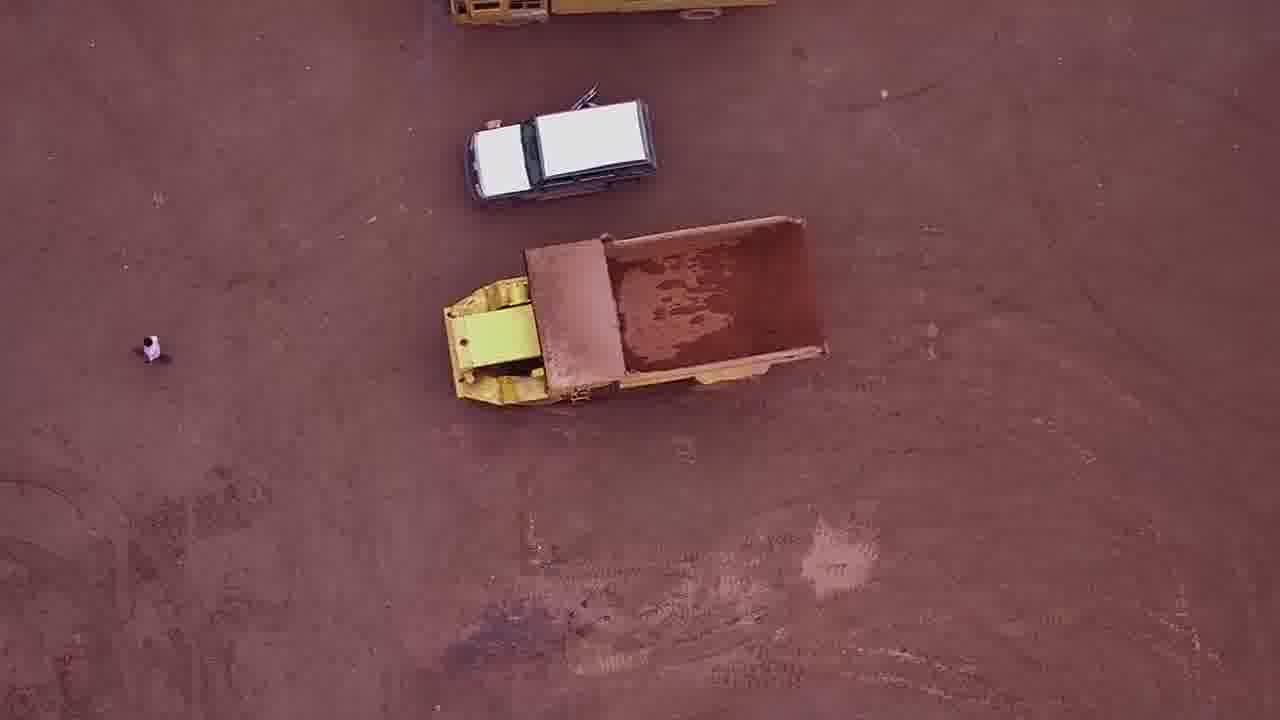HMV: (439, 216, 828, 407)
LMV: (454, 76, 663, 219)
Person: (134, 327, 172, 370)
